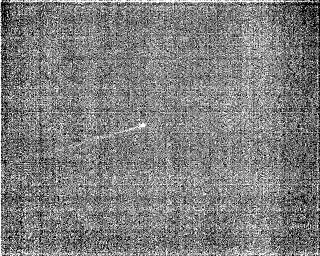AIRPLANE: (54, 121, 148, 153)
